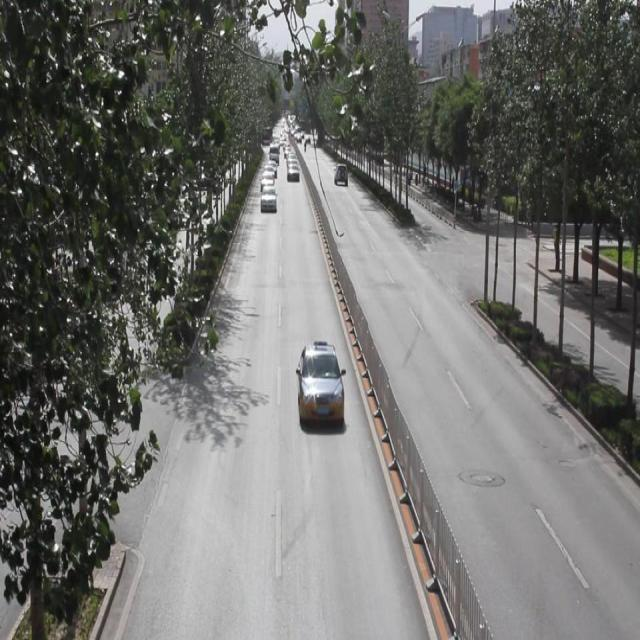car: (296, 344, 342, 428), (260, 186, 276, 210)
